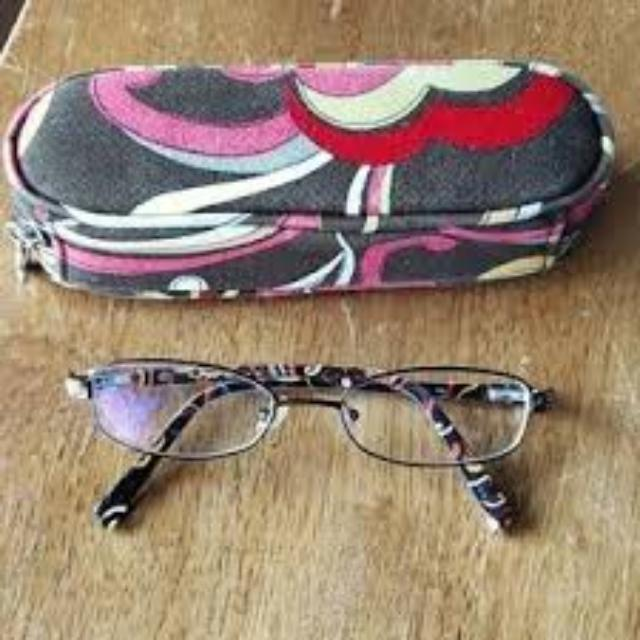mask: (64, 350, 556, 530)
